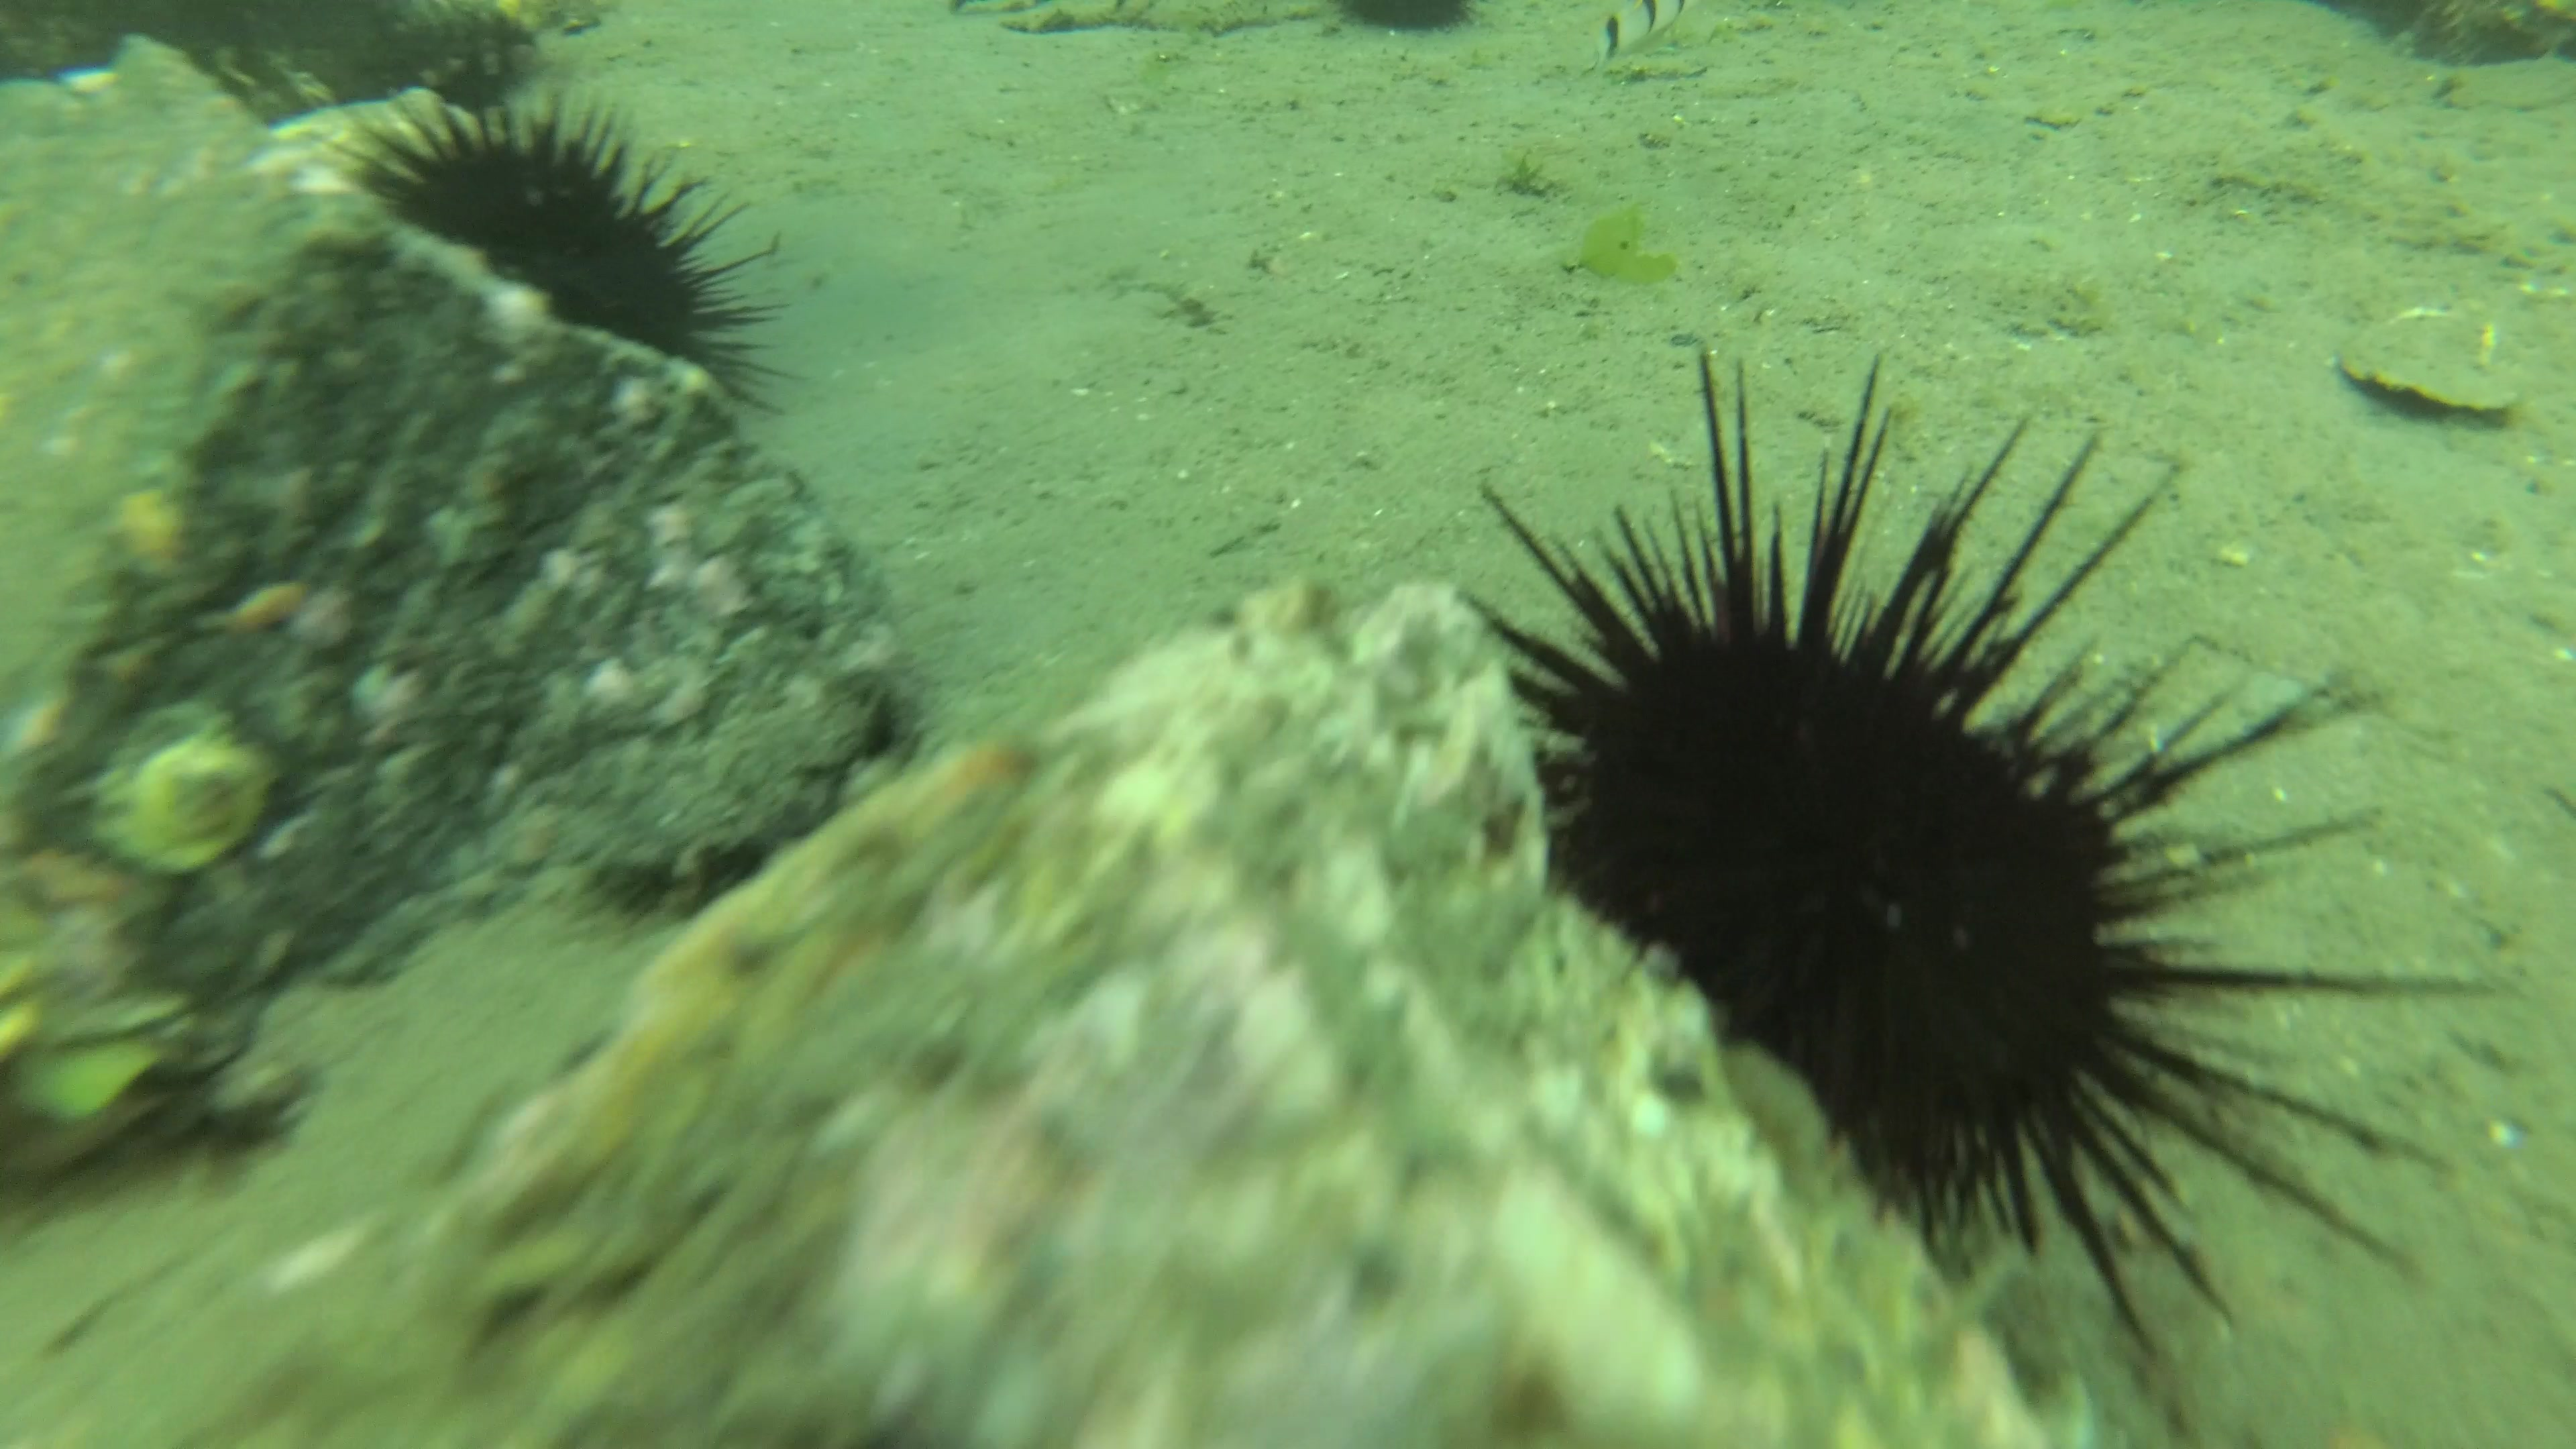echinus: (1357, 336, 2489, 1394), (225, 106, 778, 600), (1343, 0, 1476, 30)
